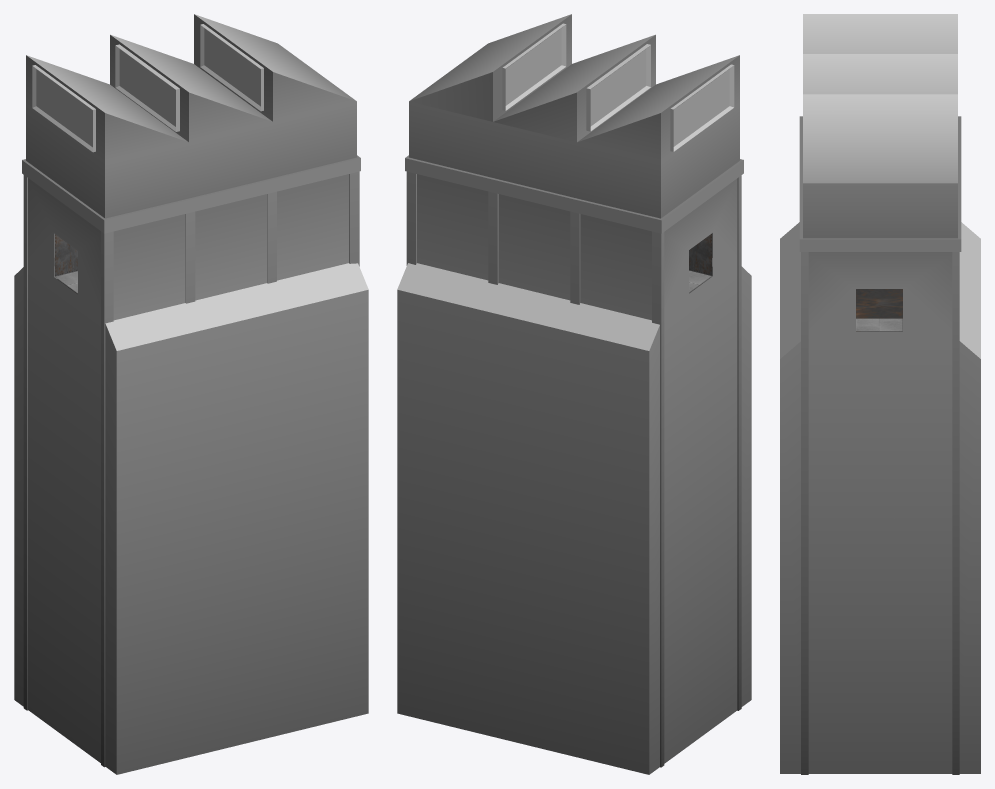
The model's file is factory_paint_gear_room.fbx.
3 renders of one model, left to right at view 1: azimuth 30°, elevation 25°; view 2: azimuth 150°, elevation 25°; view 3: azimuth 270°, elevation 25°, orthographic. The views are drawn at different scales.
Parts seen in each view (by area): view 1: Building, Interior; view 2: Building, Interior; view 3: Building, Belts, Interior.
Part boxes in pixels (x1=…): Building: x1=14, y1=14, x2=368, y2=774; Interior: x1=54, y1=234, x2=77, y2=293; Building: x1=397, y1=14, x2=751, y2=774; Interior: x1=689, y1=233, x2=712, y2=293; Building: x1=780, y1=14, x2=980, y2=774; Belts: x1=856, y1=289, x2=902, y2=318; Interior: x1=856, y1=318, x2=902, y2=331.
Size of the model in its own units: 2822 by 6843 by 1946.
